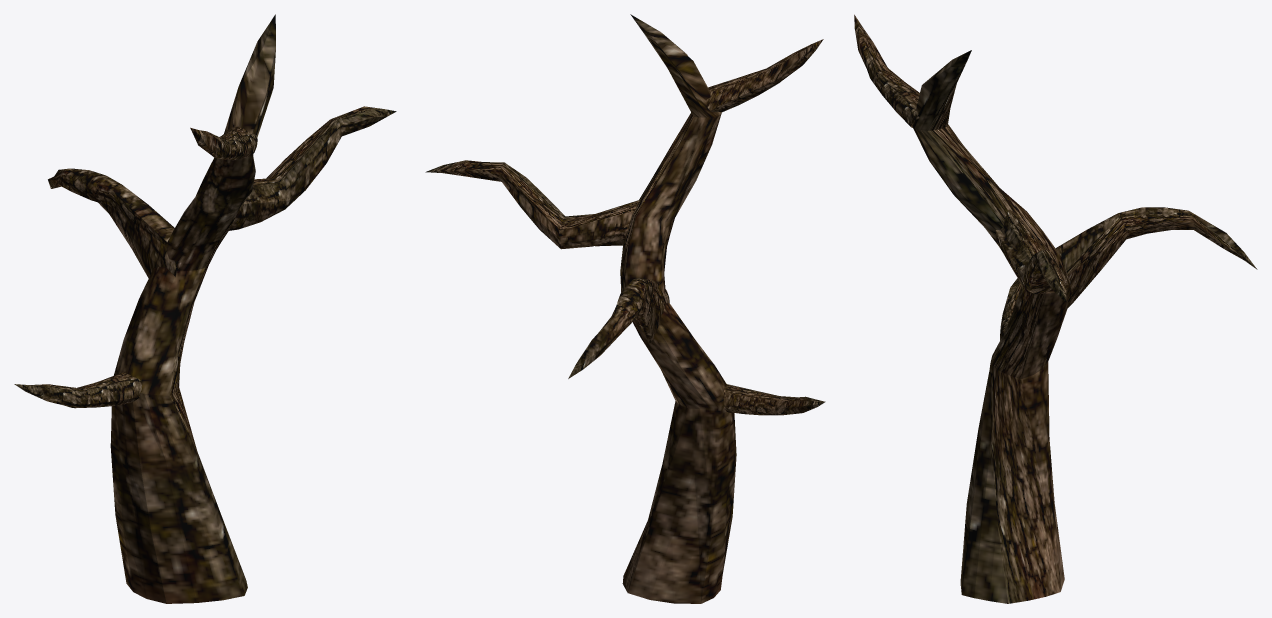
File: tree3.obj
3 views of the same model, side by side, from view 1: azimuth 30°, elevation 25°; view 2: azimuth 150°, elevation 25°; view 3: azimuth 270°, elevation 25° (orthographic). The views are drawn at different scales.
Parts seen in each view (by area): view 1: ColobotMesh_1_ColobotMesh_; view 2: ColobotMesh_1_ColobotMesh_; view 3: ColobotMesh_1_ColobotMesh_.
Part boxes in pixels (bbox=[...]): ColobotMesh_1_ColobotMesh_: bbox=[14, 14, 396, 603]; ColobotMesh_1_ColobotMesh_: bbox=[425, 14, 825, 603]; ColobotMesh_1_ColobotMesh_: bbox=[854, 14, 1257, 603].
Bounding box in the file's own units: 28.71 × 38.76 × 25.18.
